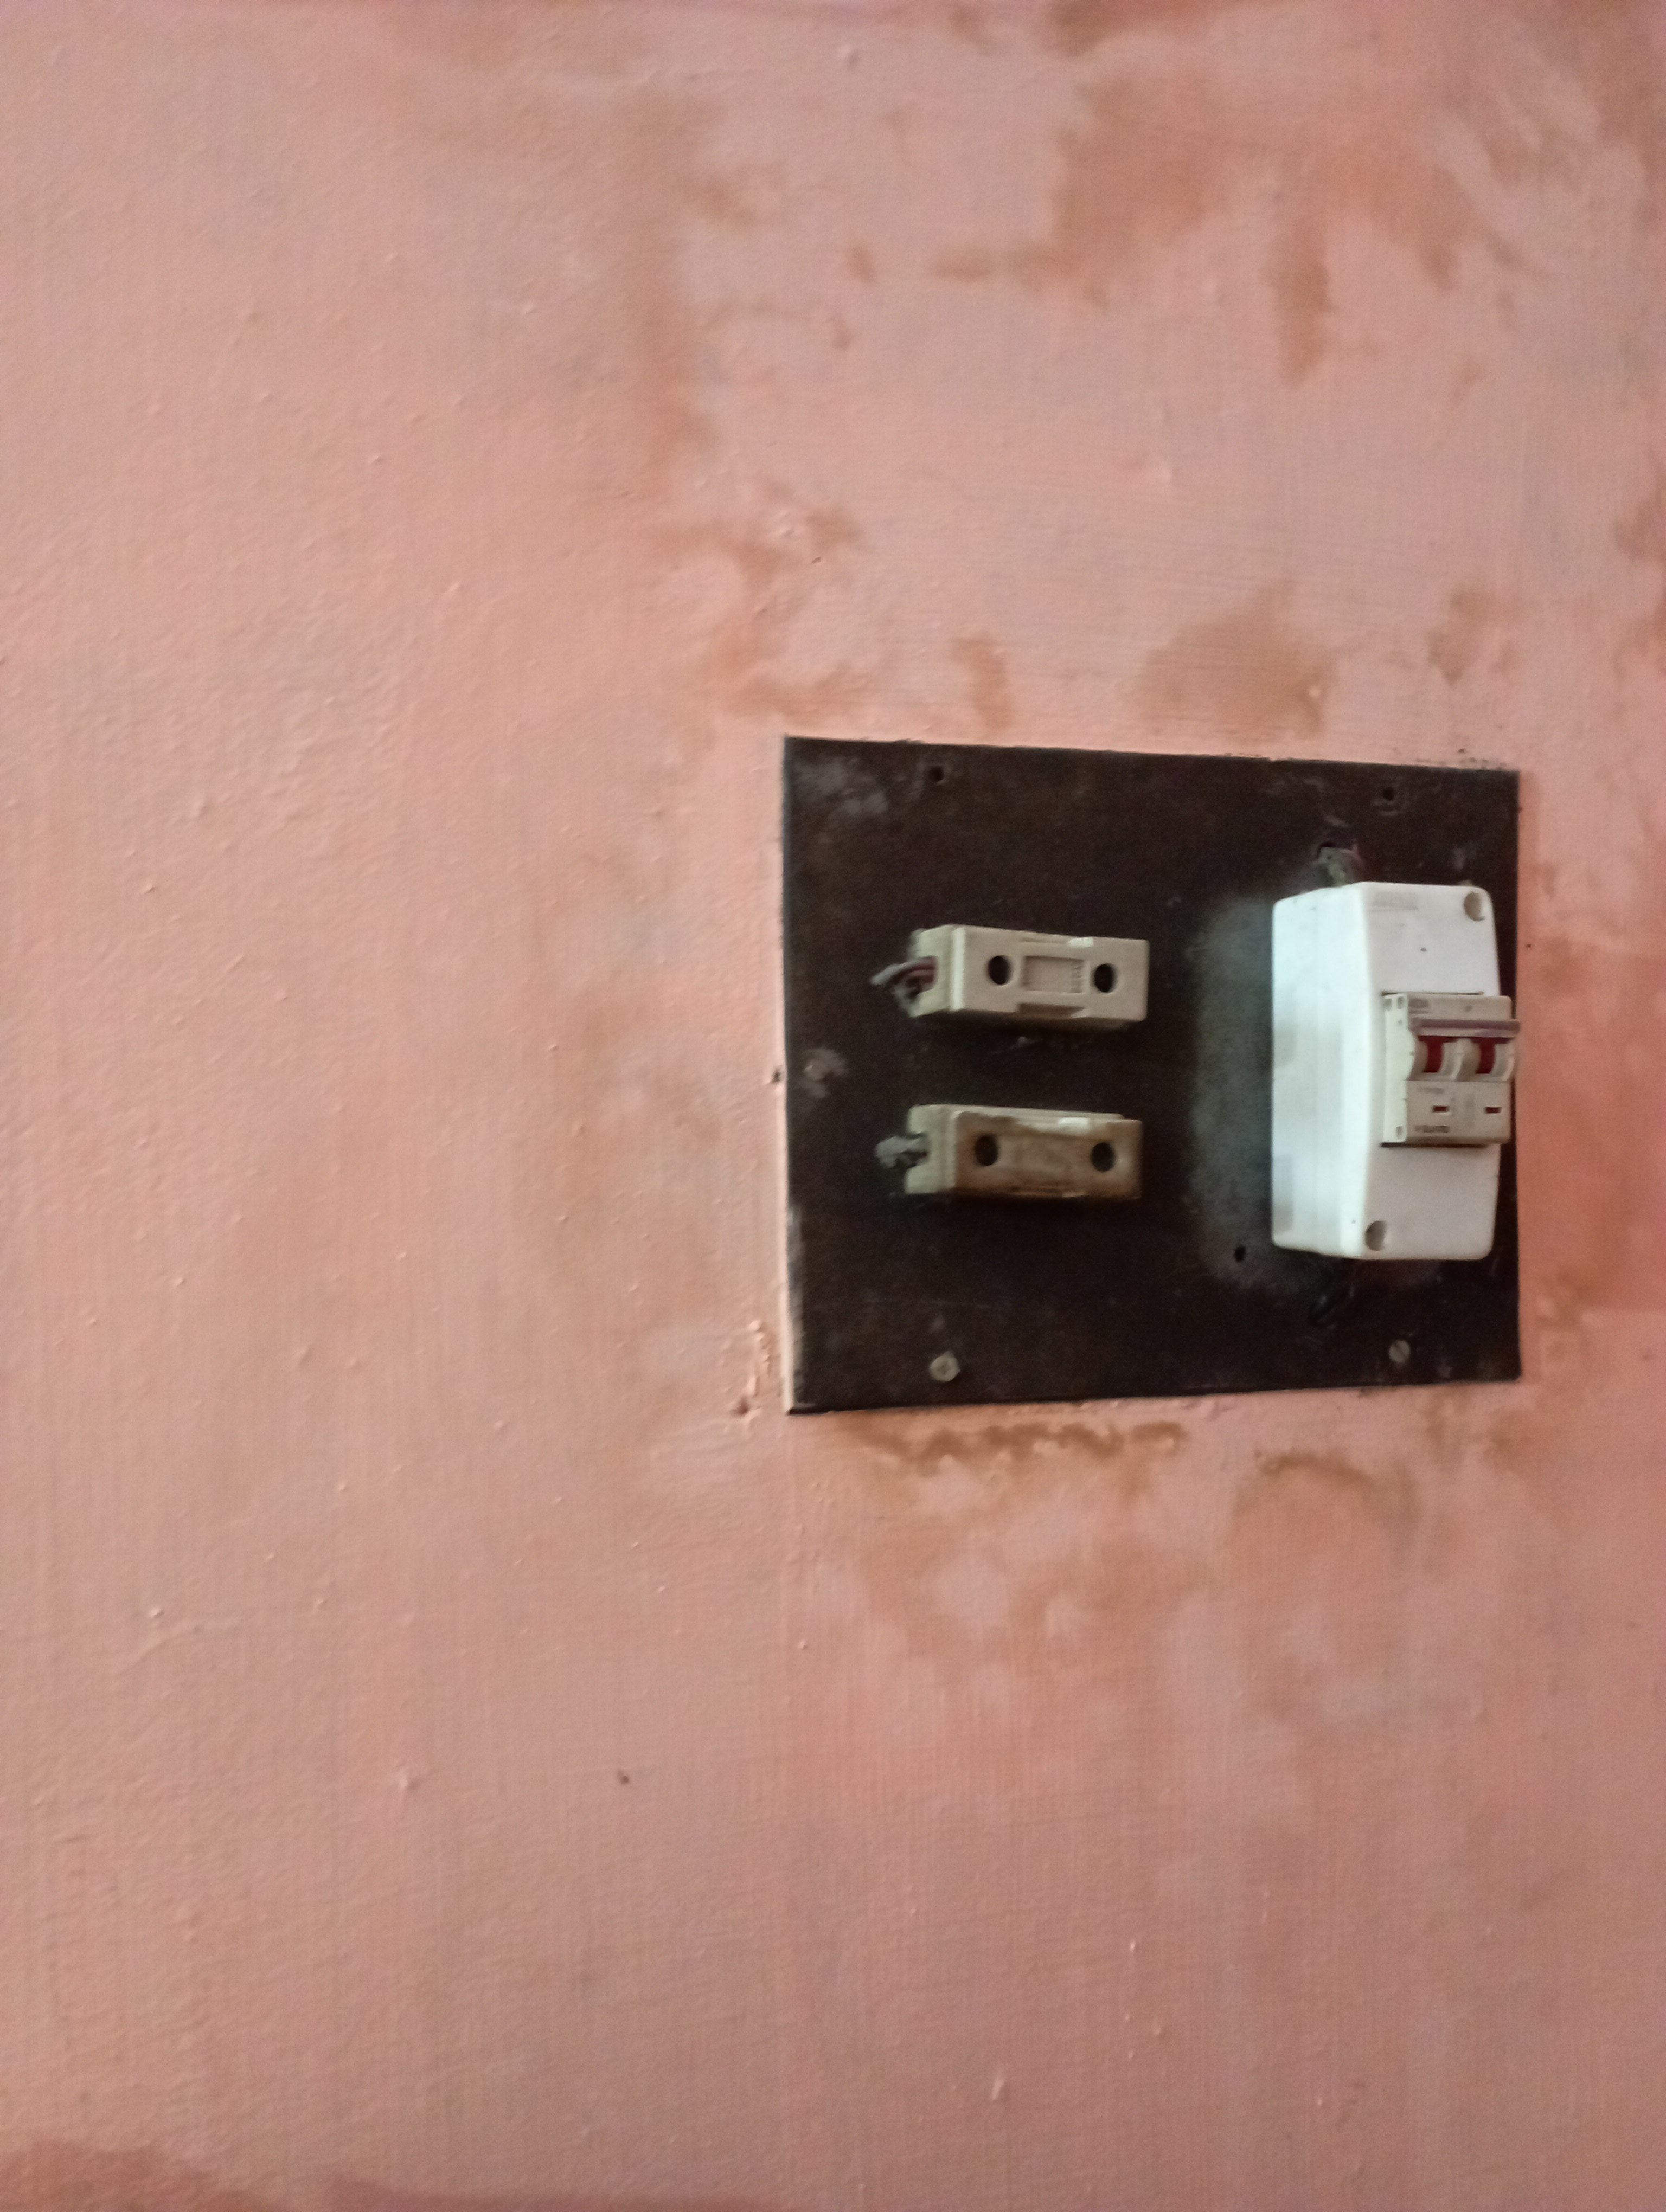ciruit_breaker: (1251, 873, 1547, 1290)
fuse: (886, 1084, 1164, 1224), (882, 913, 1159, 1040)
